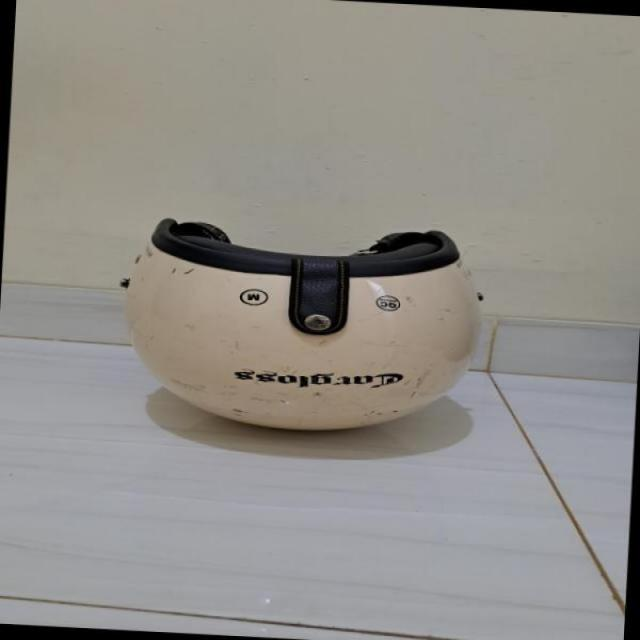Helmet: (121, 179, 483, 451)
